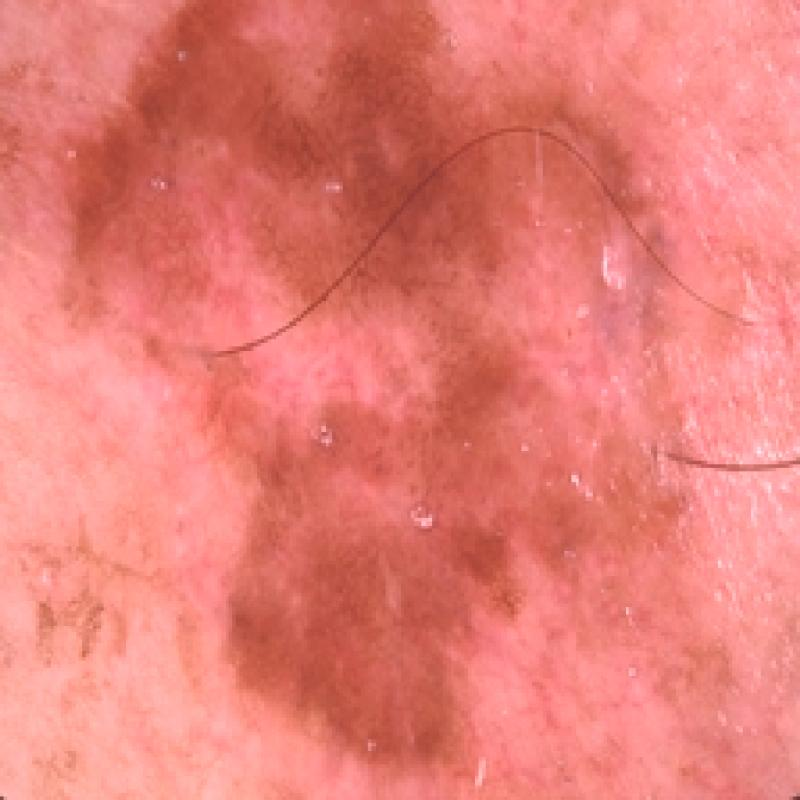malignant: (51, 4, 703, 774)
